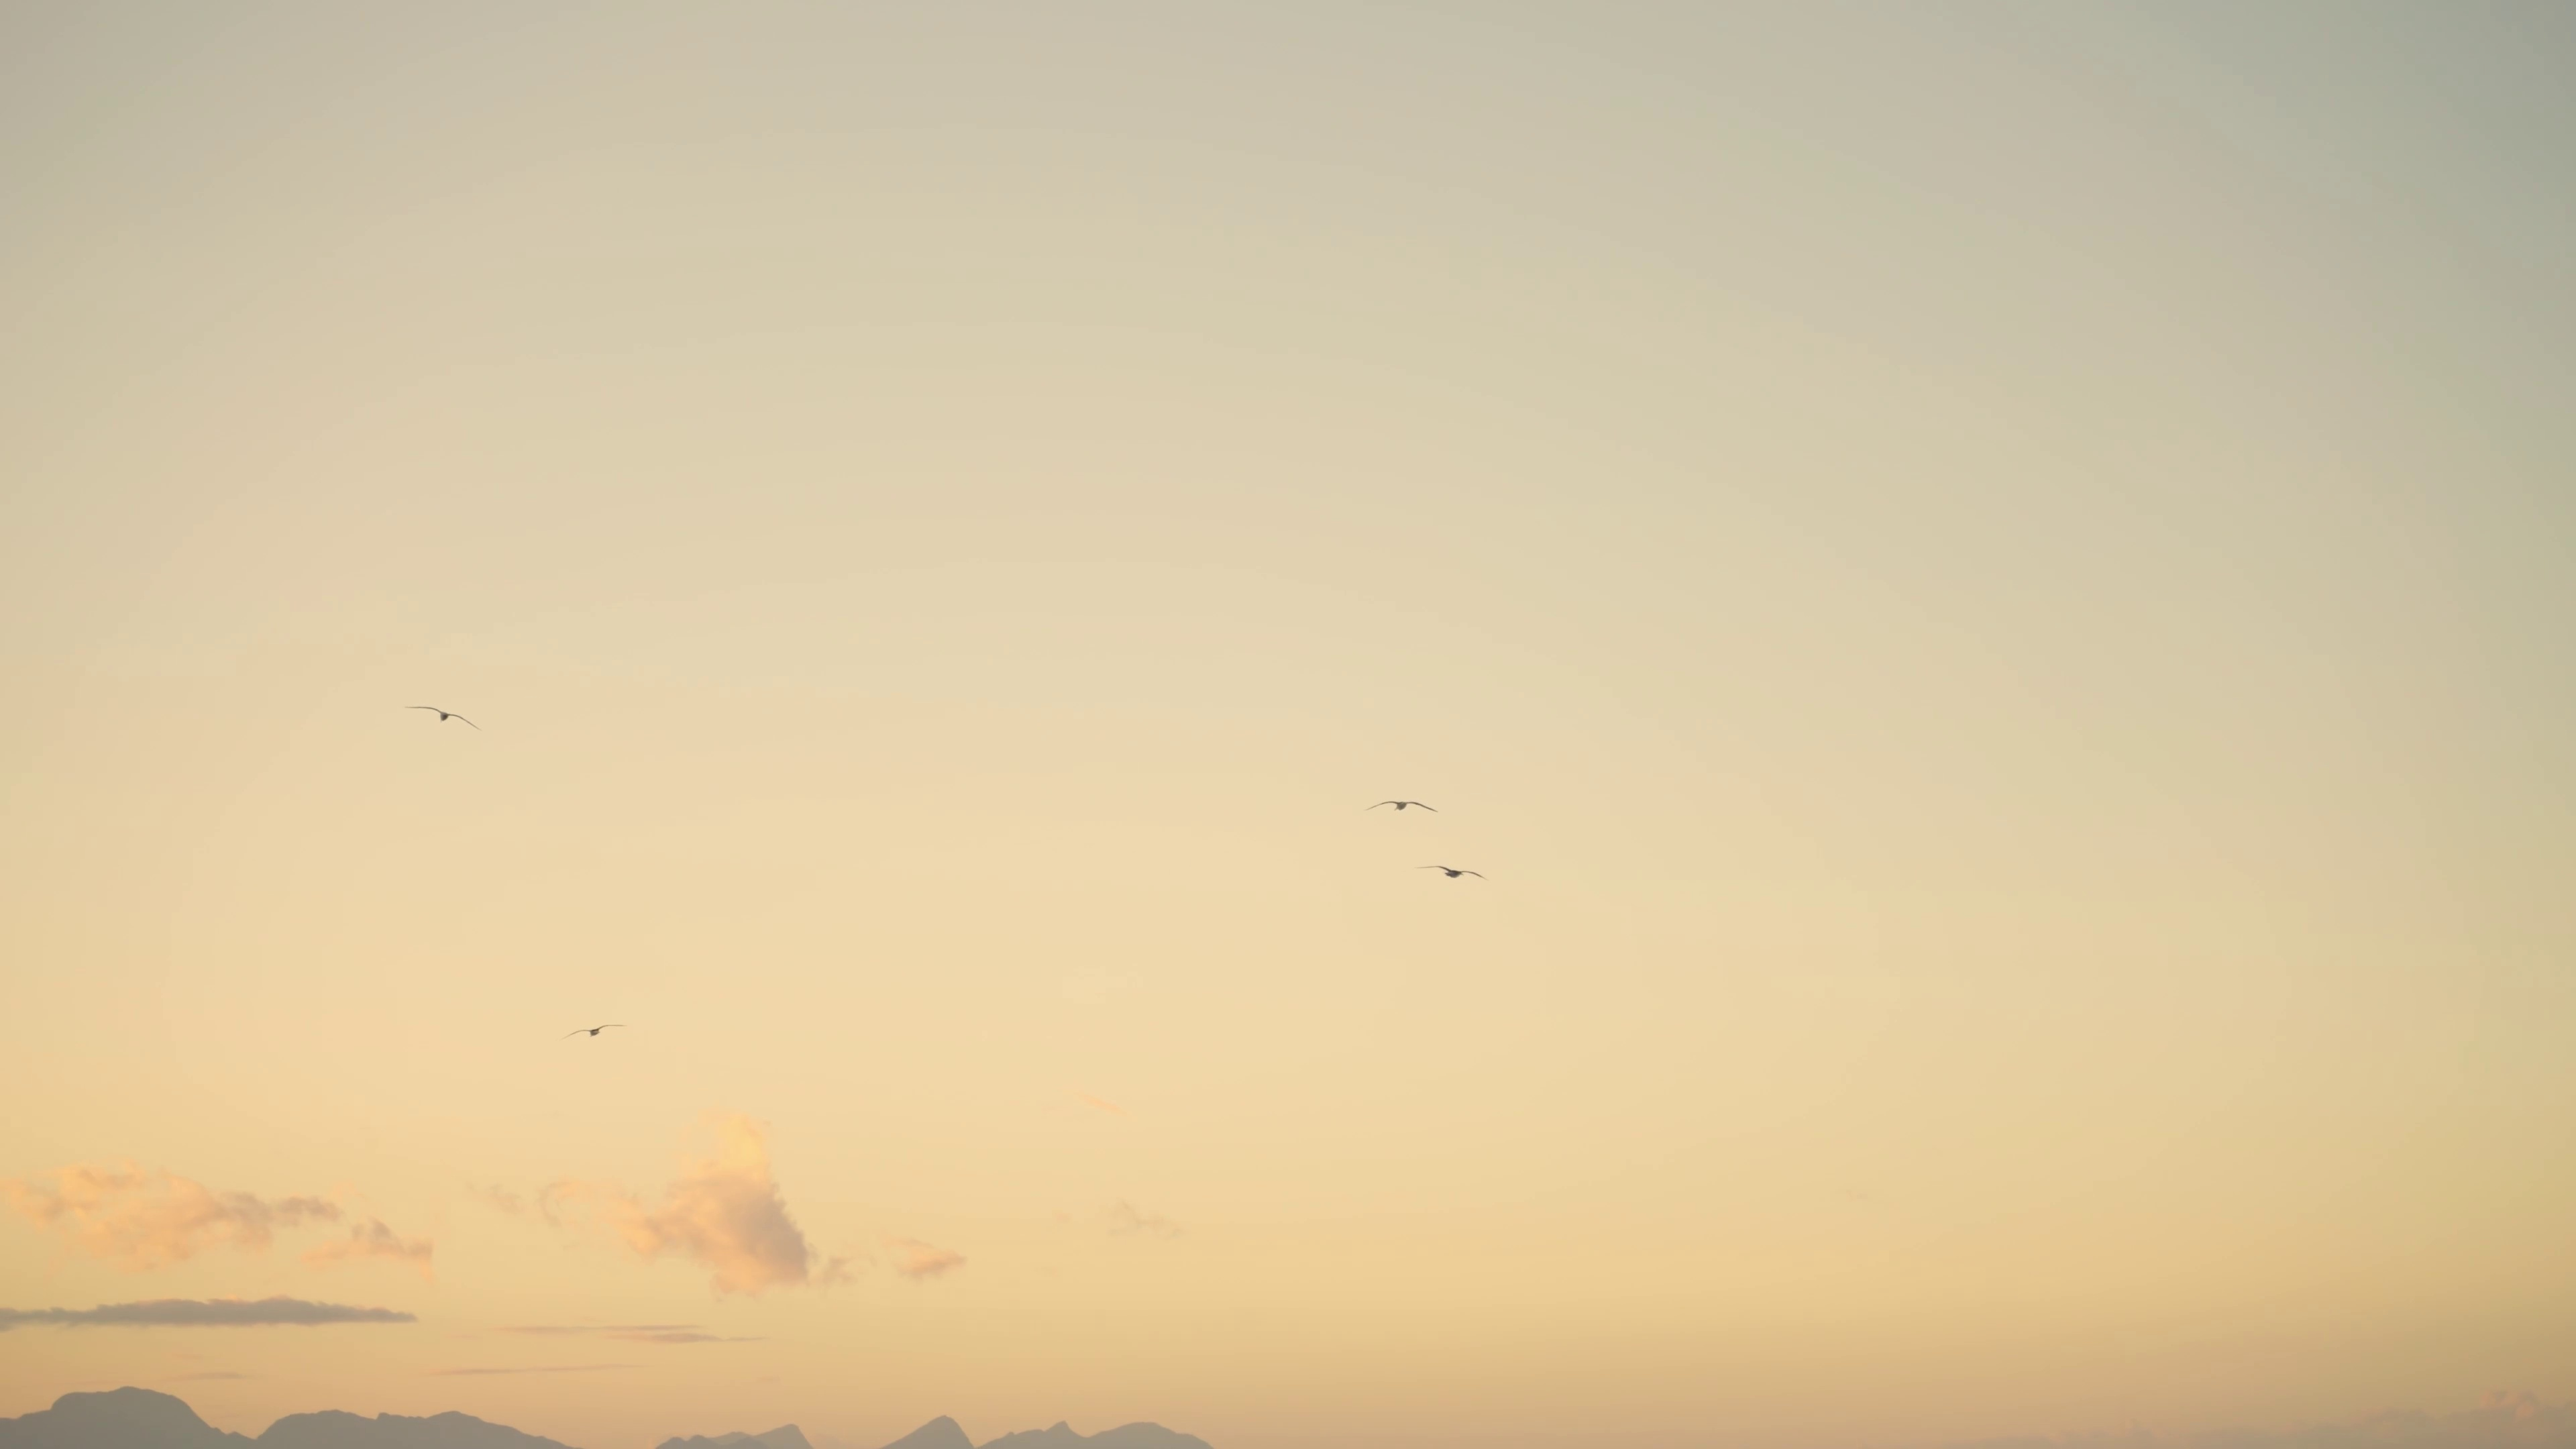bird: (405, 706, 483, 732), (1362, 800, 1438, 814), (1415, 865, 1484, 879), (566, 1024, 621, 1039)
